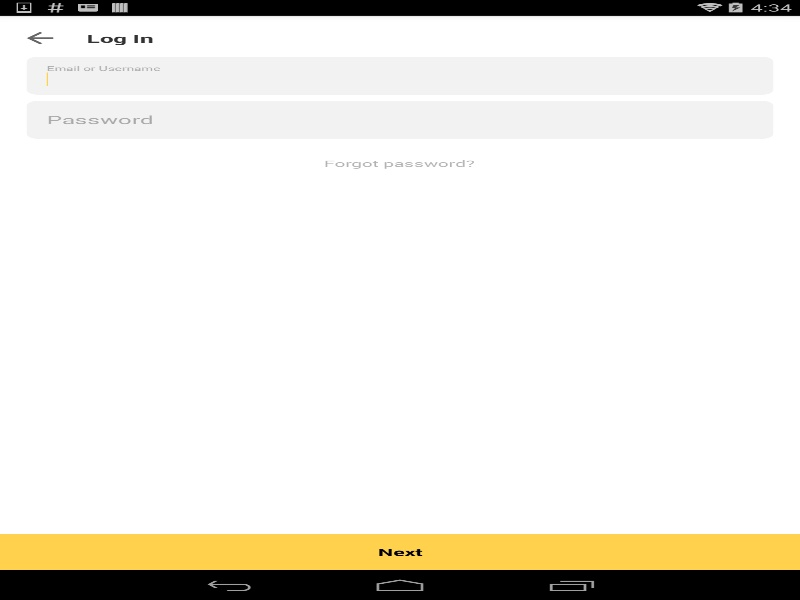Button: (0, 534, 800, 570)
Input: (46, 112, 753, 128), (46, 70, 753, 85)
